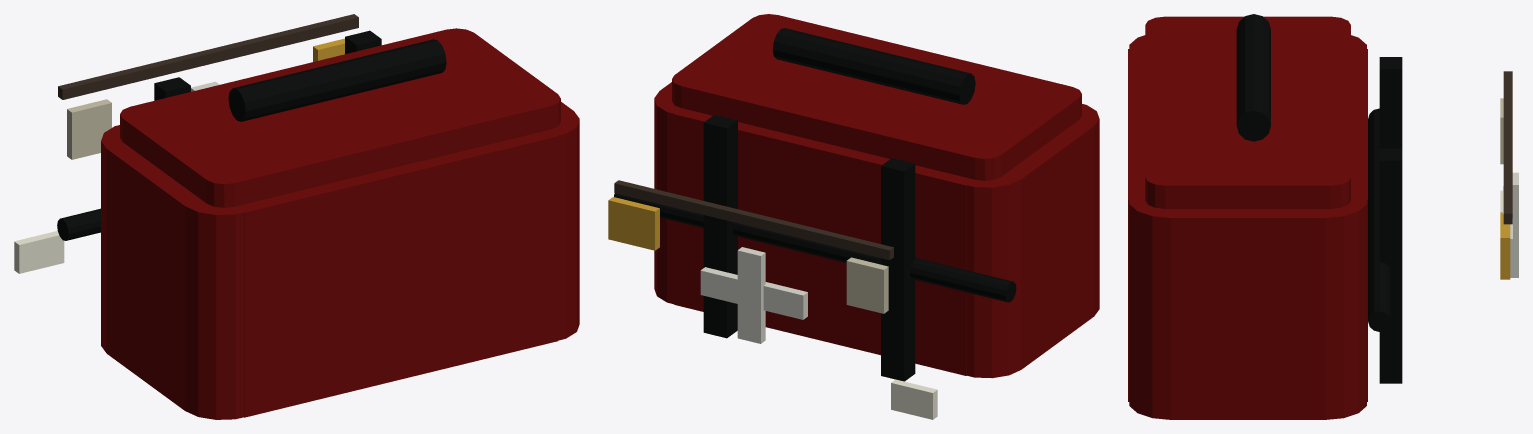
Rendered from ambulance_medical_bag.obj.
The picture shows the model from 3 angles, left to right: view 1: azimuth 30°, elevation 25°; view 2: azimuth 150°, elevation 25°; view 3: azimuth 270°, elevation 25°; orthographic projection. The views are drawn at different scales.
Parts seen in each view (by area): view 1: ambulance_medical_bag; view 2: ambulance_medical_bag; view 3: ambulance_medical_bag.
Part boxes in pixels (box(x1,y1,x2,y2)): ambulance_medical_bag: box(14, 14, 579, 419); ambulance_medical_bag: box(608, 14, 1099, 419); ambulance_medical_bag: box(1128, 14, 1518, 419).
Bounding box in the file's own units: 1.68 × 1.04 × 1.37.
